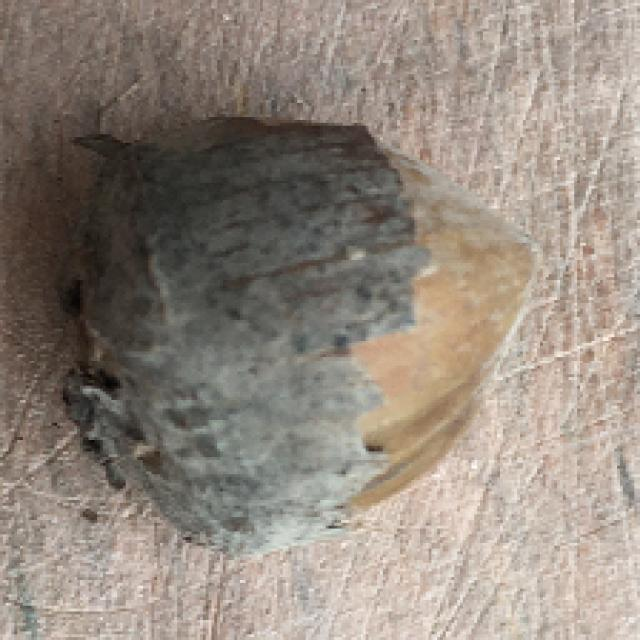damagedHazelnut: (44, 93, 550, 567)
